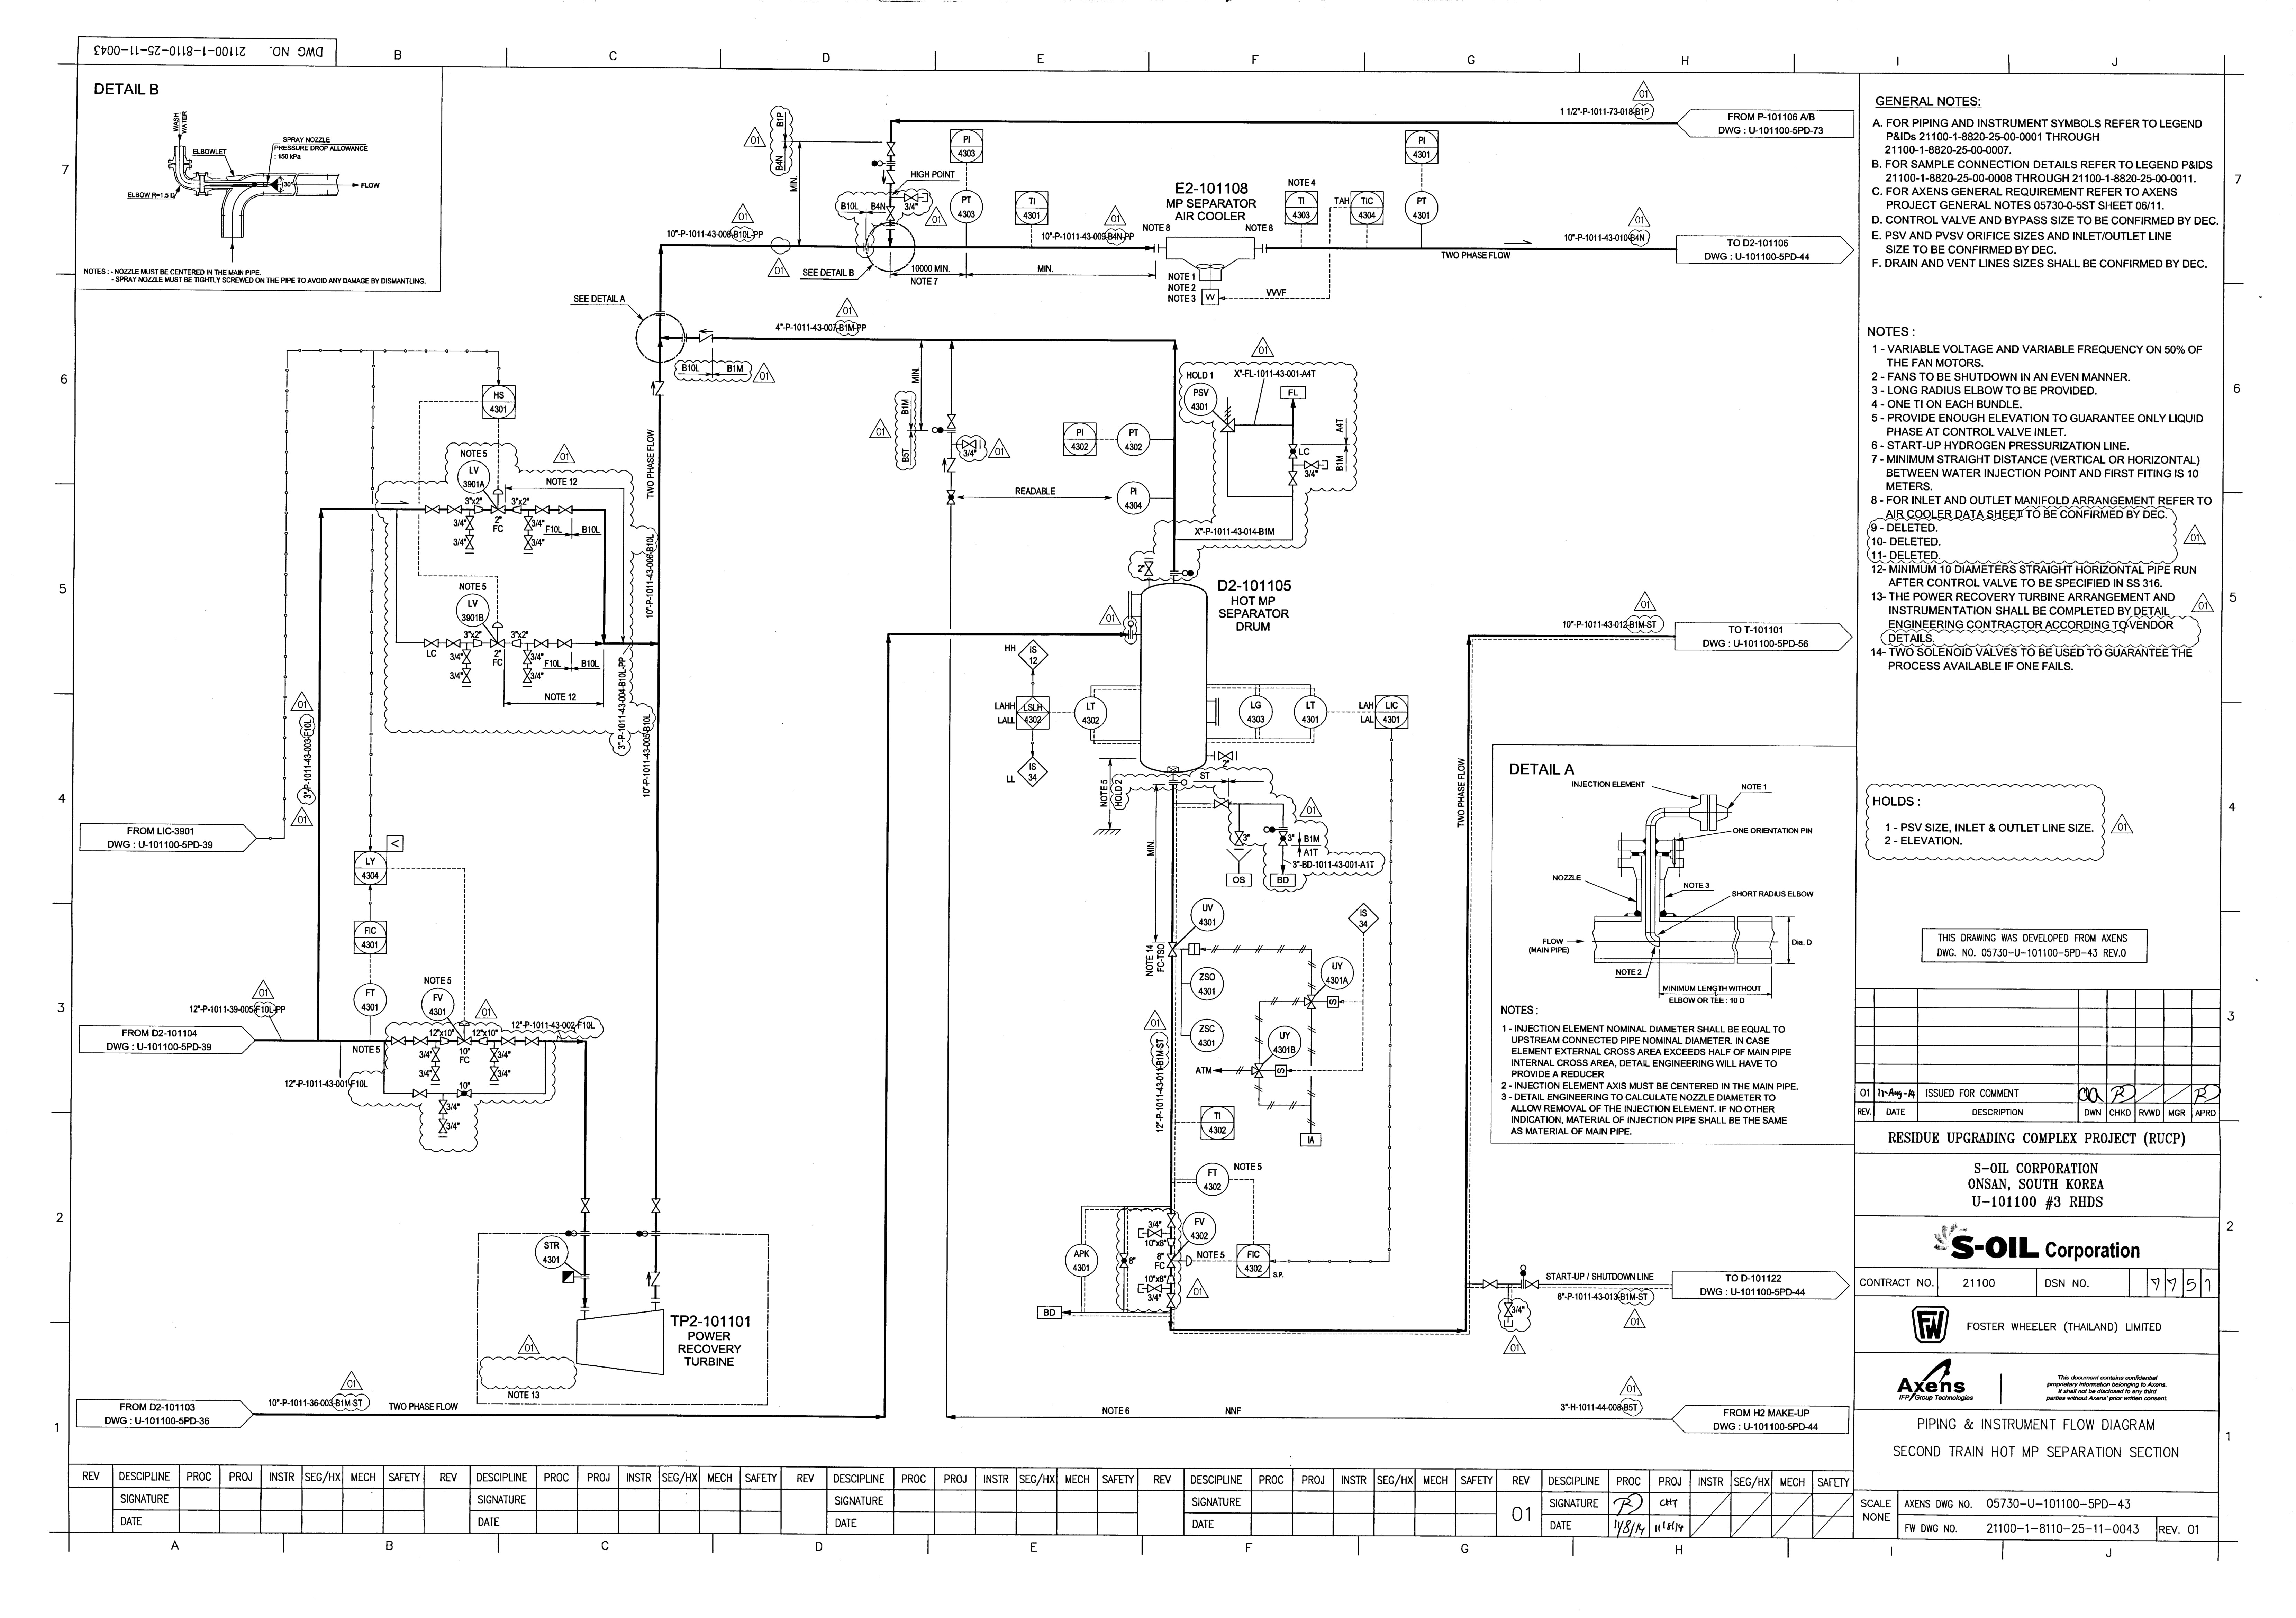NAS: (881, 168, 900, 189), (881, 219, 902, 235), (932, 168, 956, 180), (870, 201, 895, 210), (919, 193, 932, 205)
butterfly0: (455, 1087, 473, 1098)
butterfly90: (1278, 830, 1289, 848), (1119, 1252, 1130, 1270)
reduce0: (471, 637, 483, 648), (473, 504, 483, 515), (440, 1037, 450, 1045)
reduce180: (511, 504, 522, 515), (510, 639, 522, 648), (478, 1037, 489, 1045)
reduce270: (1166, 1236, 1177, 1247)
reduce90: (1165, 1275, 1177, 1285)
valvecontrol0: (1166, 1252, 1193, 1270)
valvecontrol90: (455, 1017, 473, 1047), (489, 622, 506, 648), (489, 489, 506, 515)
